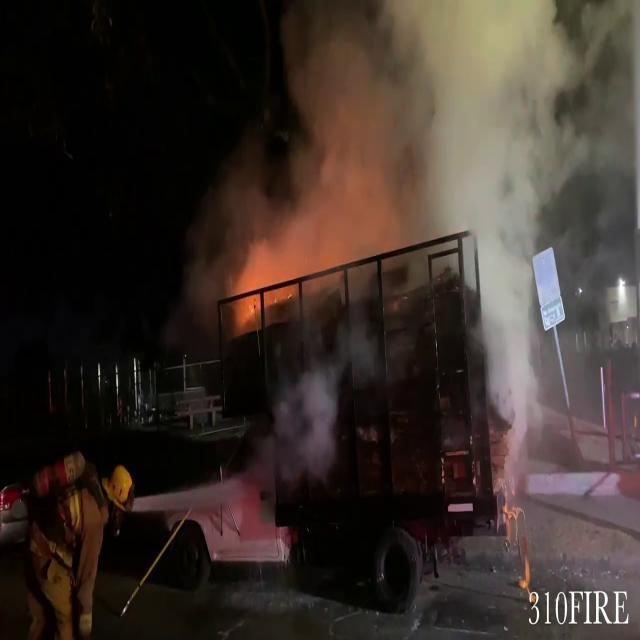Smoke: (218, 1, 594, 320)
